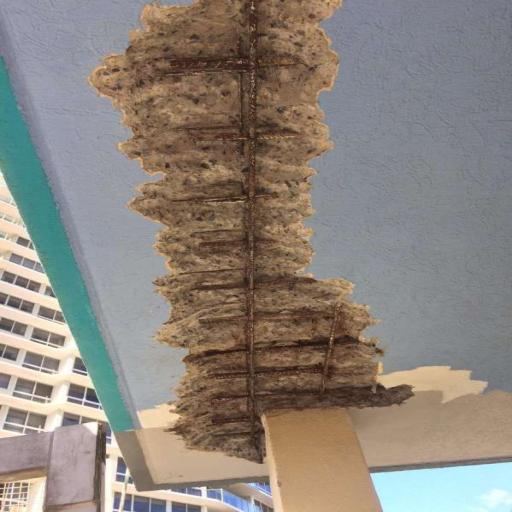spalling: (86, 0, 414, 465)
